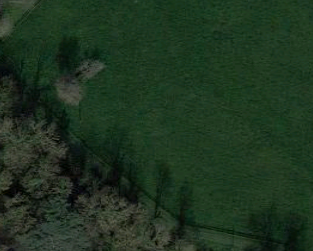tree: (53, 62, 92, 114)
